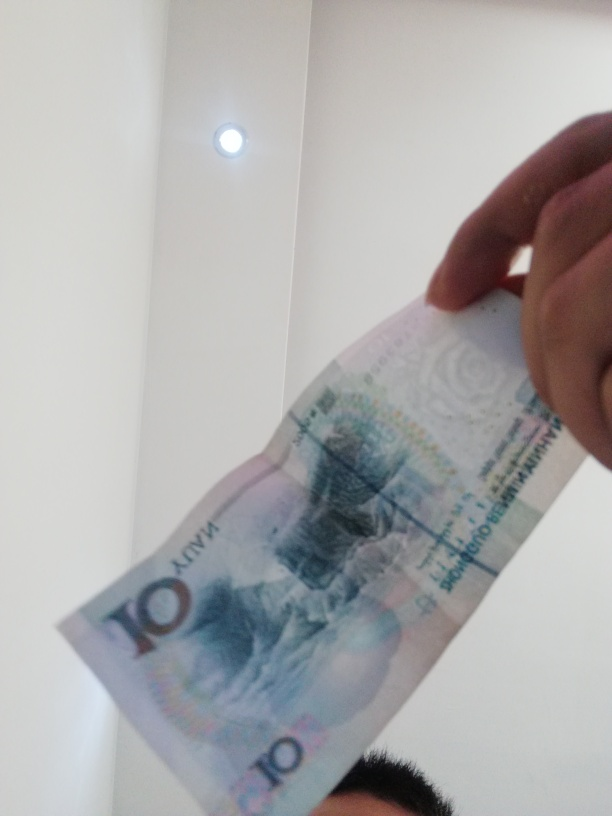rmb: (35, 284, 599, 816)
